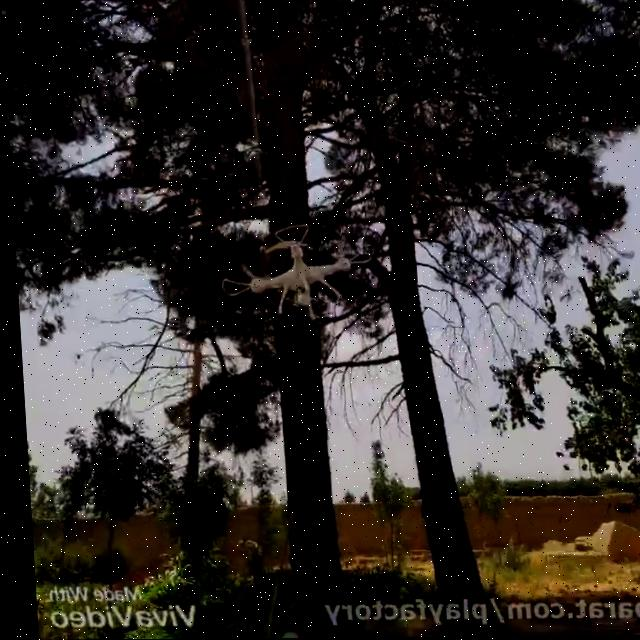drone: (214, 222, 371, 321)
